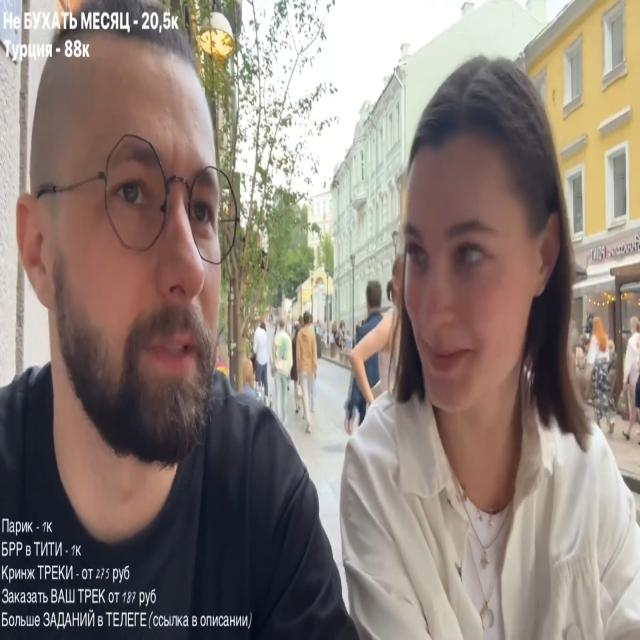Person: (0, 9, 368, 640), (299, 52, 640, 640), (345, 284, 395, 429), (270, 315, 298, 422), (295, 312, 321, 425), (619, 314, 640, 440), (252, 316, 274, 394)
